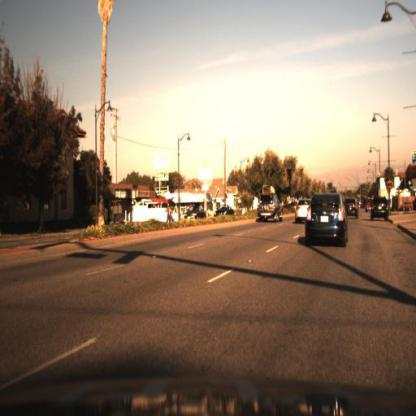car: (306, 191, 348, 246), (257, 192, 284, 224), (295, 201, 317, 224), (183, 204, 211, 222), (213, 206, 241, 224), (370, 196, 390, 220), (400, 198, 414, 219)
